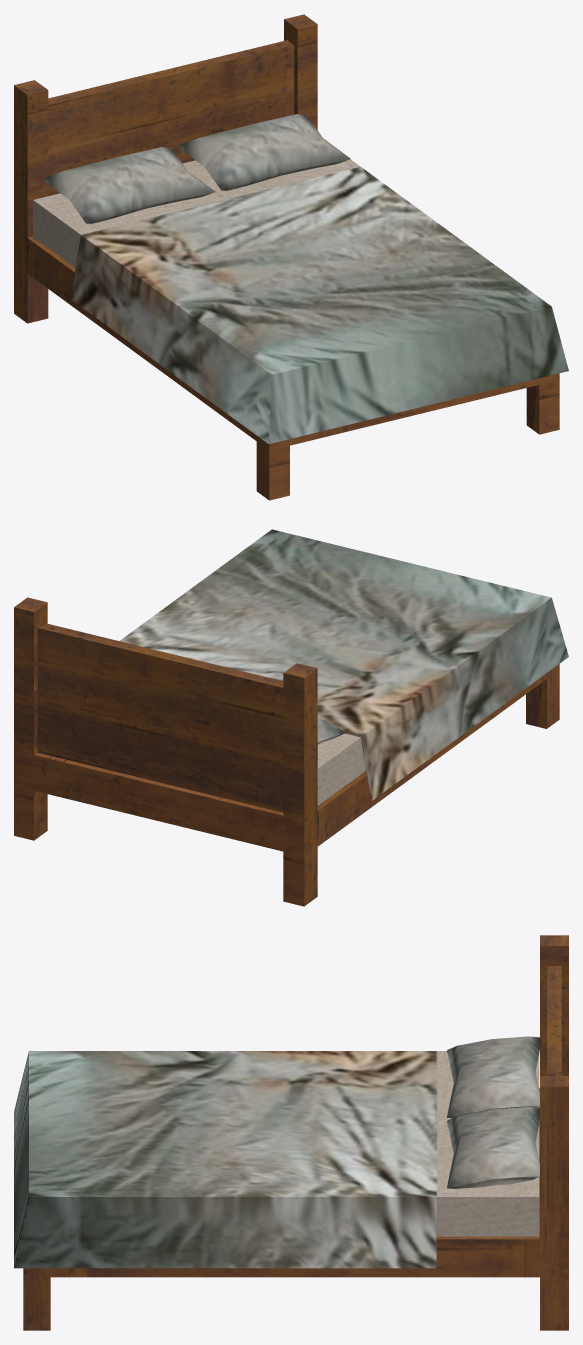
The model's file is bed_04-col-col.glb.
3 views of the same model, one above another, from view 1: azimuth 30°, elevation 25°; view 2: azimuth 150°, elevation 25°; view 3: azimuth 270°, elevation 25° (orthographic). The views are drawn at different scales.
Visible parts, largest first — view 1: bed_04-col-col; view 2: bed_04-col-col; view 3: bed_04-col-col.
Boxes of the visible parts, x1,y1,x2,y2 form: bed_04-col-col: (14,14,568,500); bed_04-col-col: (14,529,568,906); bed_04-col-col: (14,935,568,1330).
Size of the model in its own units: 1.67 by 1.22 by 2.5.
1 material, 1 textured.
